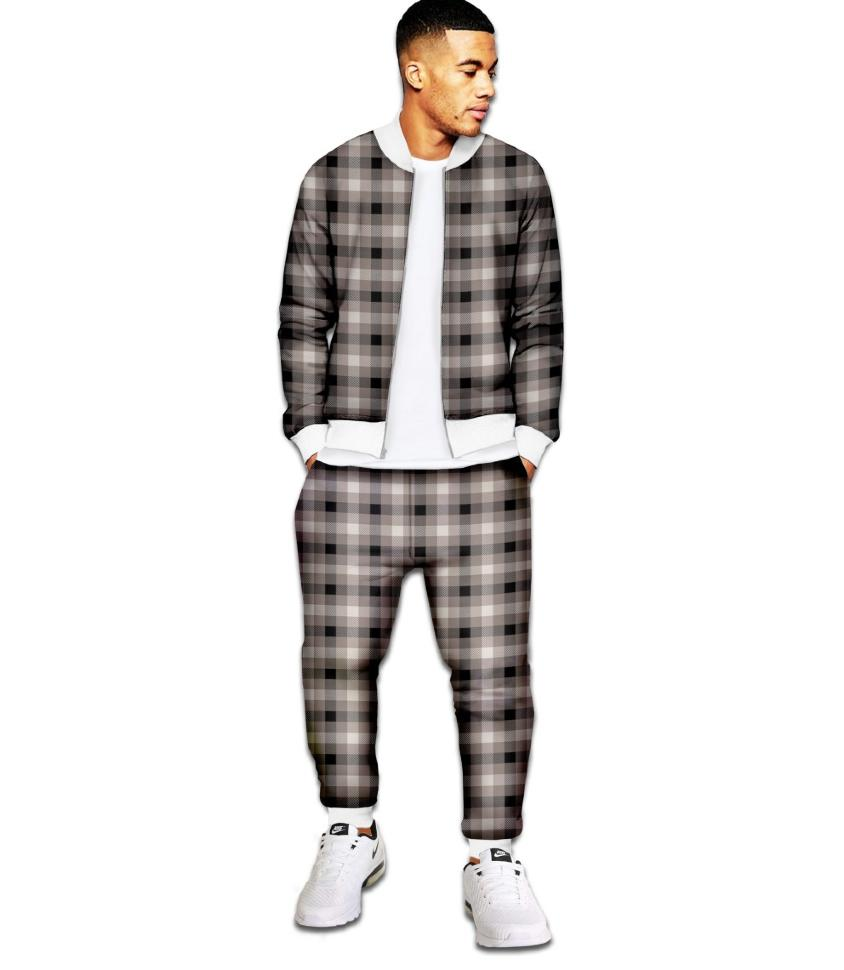squared: (287, 462, 544, 839), (275, 128, 573, 446)
